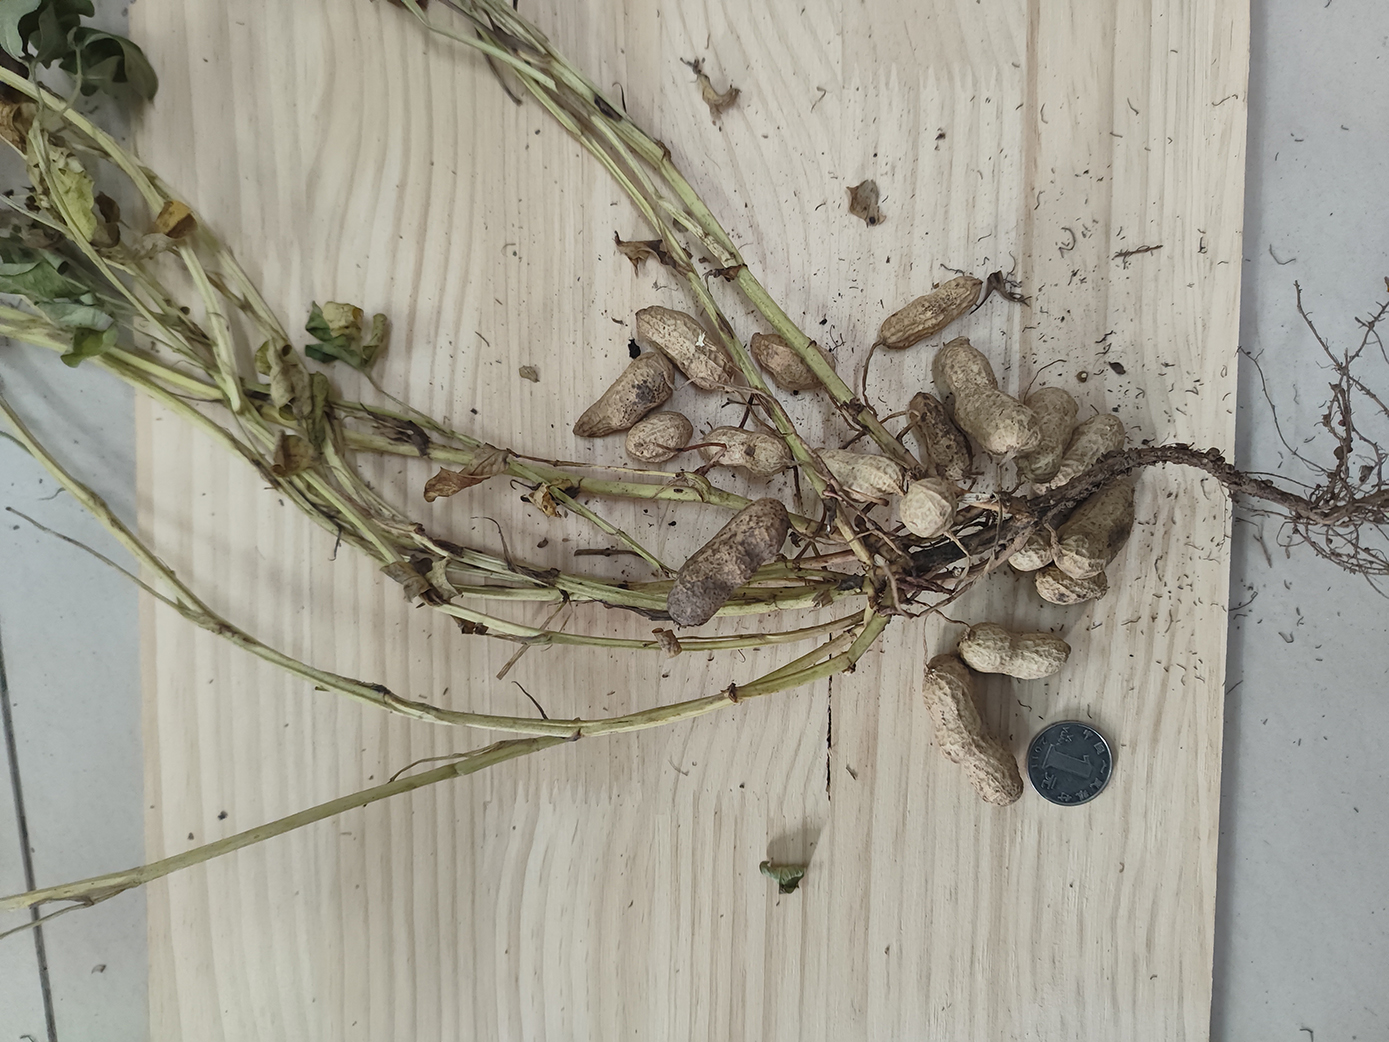h: (926, 657, 1022, 804), (931, 337, 1042, 459), (569, 354, 681, 438), (634, 304, 729, 392), (1056, 483, 1136, 578), (879, 276, 984, 347), (1032, 414, 1124, 494), (960, 625, 1070, 680), (807, 445, 908, 503), (1018, 386, 1075, 482), (751, 333, 837, 395), (907, 392, 969, 477), (699, 428, 788, 481), (627, 410, 693, 463), (899, 481, 958, 537), (1035, 563, 1109, 604), (1006, 528, 1057, 569)
l: (667, 499, 788, 626)
